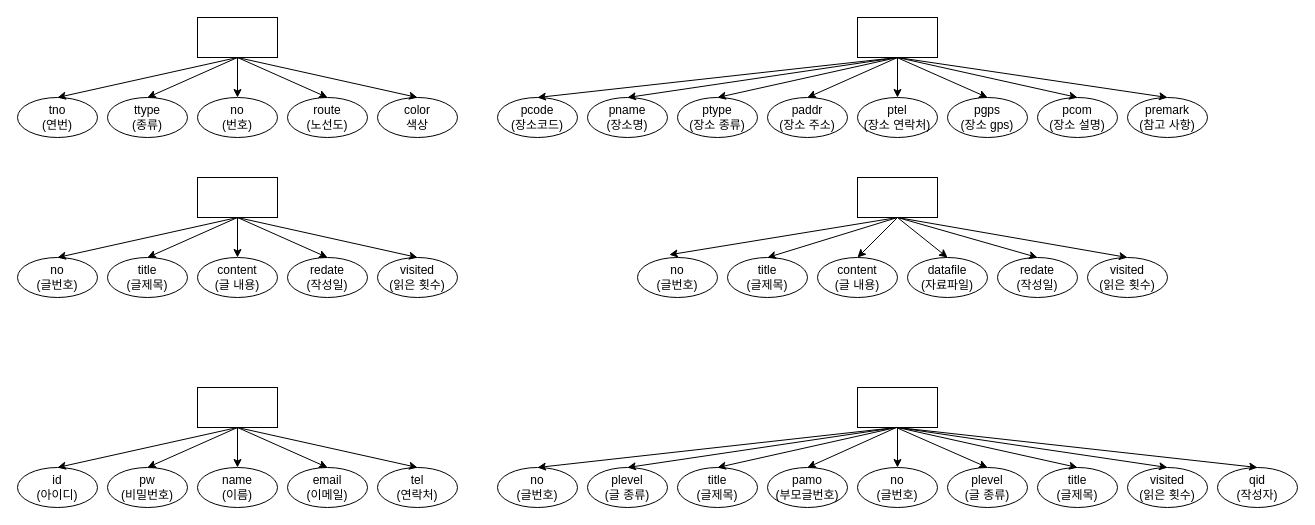
The diagram is 1315 pixels wide and 525 high, and some of its shapes have lost their labels. Each missing label, with the centre of its shape:
"data 자료실" goes at point (897, 197).
"guide 안내사항" goes at point (897, 37).
"notice 공지사항" goes at point (237, 197).
"qna 묻고 답하기" goes at point (897, 407).
"traffic" goes at point (237, 37).
"회원" goes at point (237, 407).
